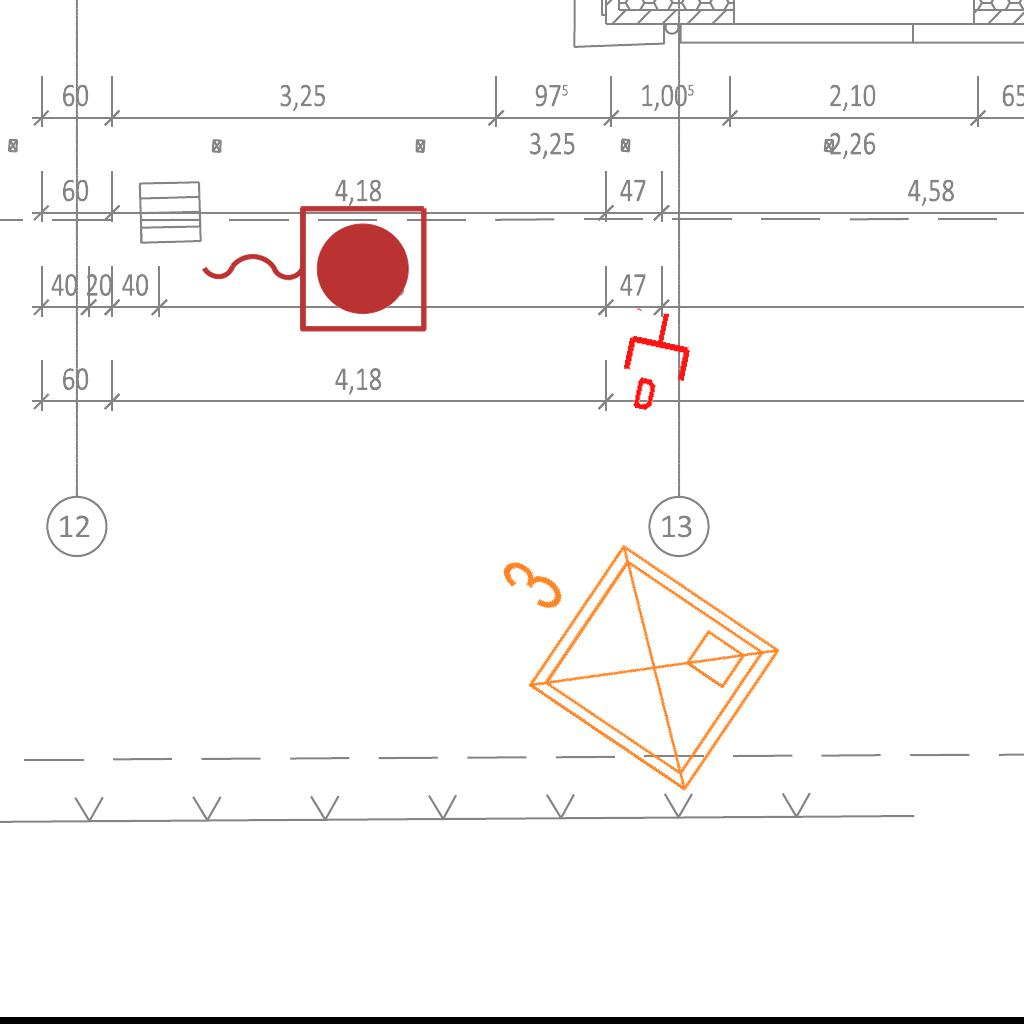Datenanschluss_einfach: (612, 304, 701, 418)
Einbaudownlights_LED_Konferenzraeume: (435, 477, 801, 819)
Zugtaster: (191, 195, 435, 339)
